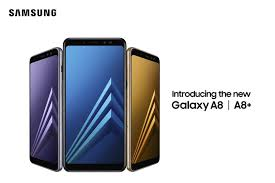samsung: (61, 35, 128, 175), (128, 45, 161, 171), (27, 45, 60, 171)
